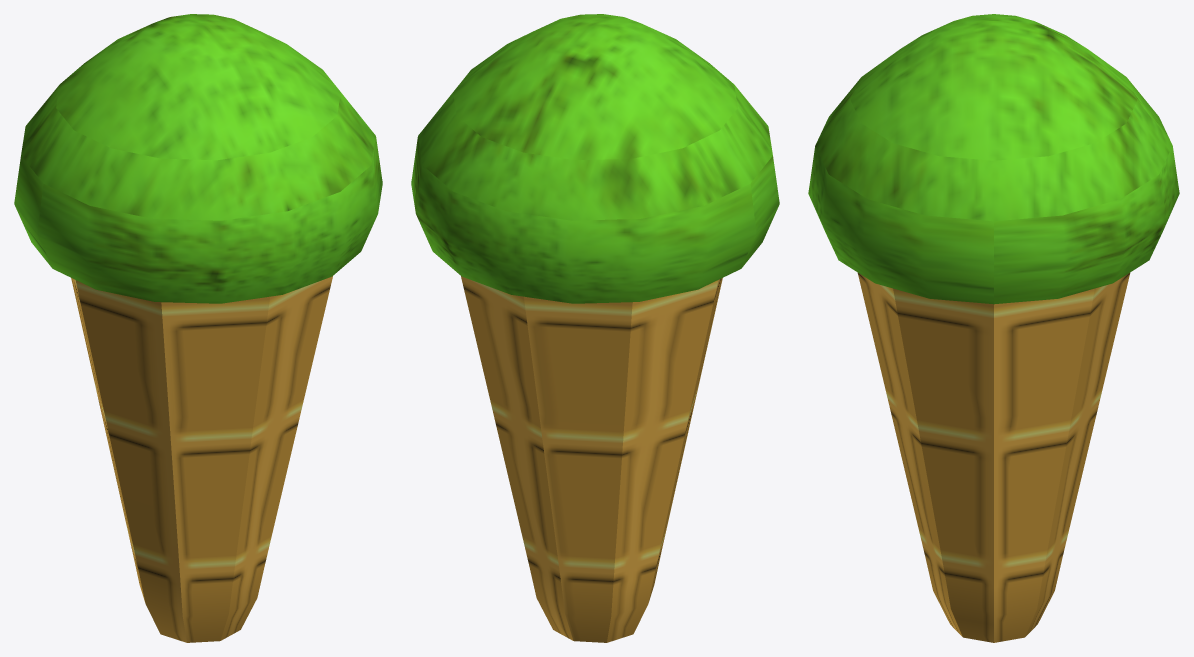
The model's file is IceCreamE.fbx.
The picture shows the model from 3 angles, left to right: view 1: azimuth 30°, elevation 25°; view 2: azimuth 150°, elevation 25°; view 3: azimuth 270°, elevation 25°; orthographic projection.
Parts seen in each view (by area): view 1: IceCreamE, IceCreamCorn_E; view 2: IceCreamE, IceCreamCorn_E; view 3: IceCreamE, IceCreamCorn_E.
Boxes of the visible parts, bbox=[...] form: IceCreamE: bbox=[14, 14, 382, 303]; IceCreamCorn_E: bbox=[71, 276, 332, 642]; IceCreamE: bbox=[411, 14, 779, 303]; IceCreamCorn_E: bbox=[461, 276, 722, 642]; IceCreamE: bbox=[808, 14, 1179, 304]; IceCreamCorn_E: bbox=[857, 273, 1130, 642].
Bounding box in the file's own units: 106 × 192 × 106.
